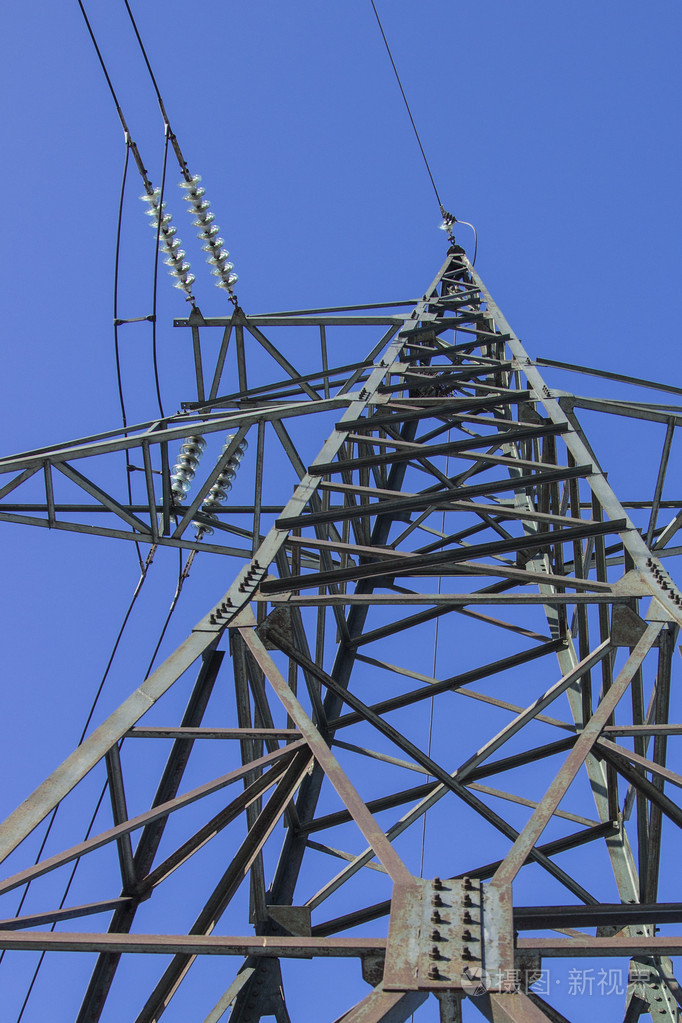insulator: (184, 173, 239, 294), (142, 182, 197, 294), (202, 431, 248, 507), (169, 431, 208, 500)
